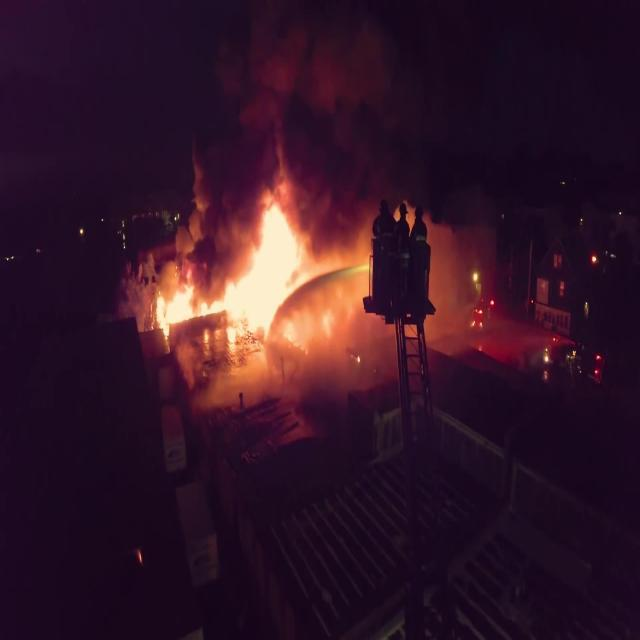Fire: (148, 201, 302, 351)
Smoke: (208, 0, 455, 202)
